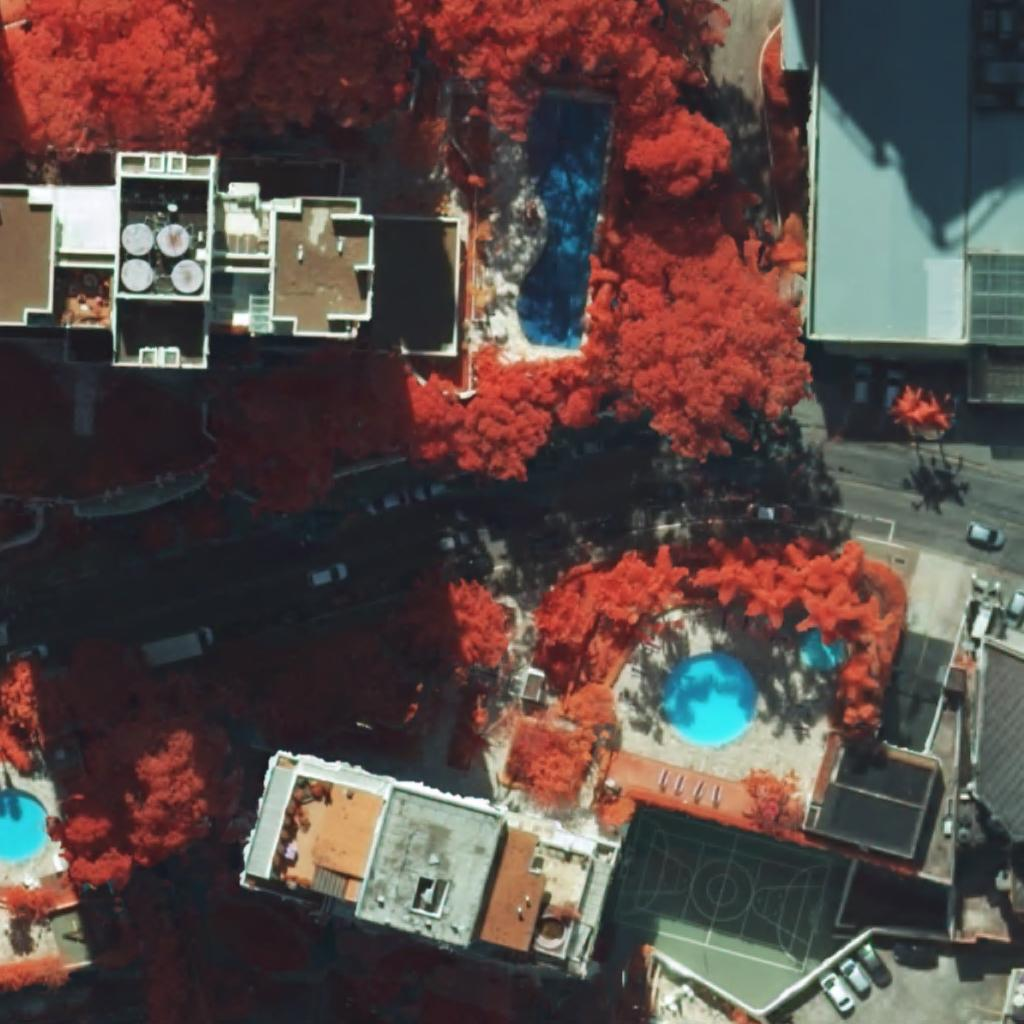pool: (516, 97, 613, 352), (662, 652, 759, 747), (0, 789, 49, 863), (800, 632, 847, 668)
